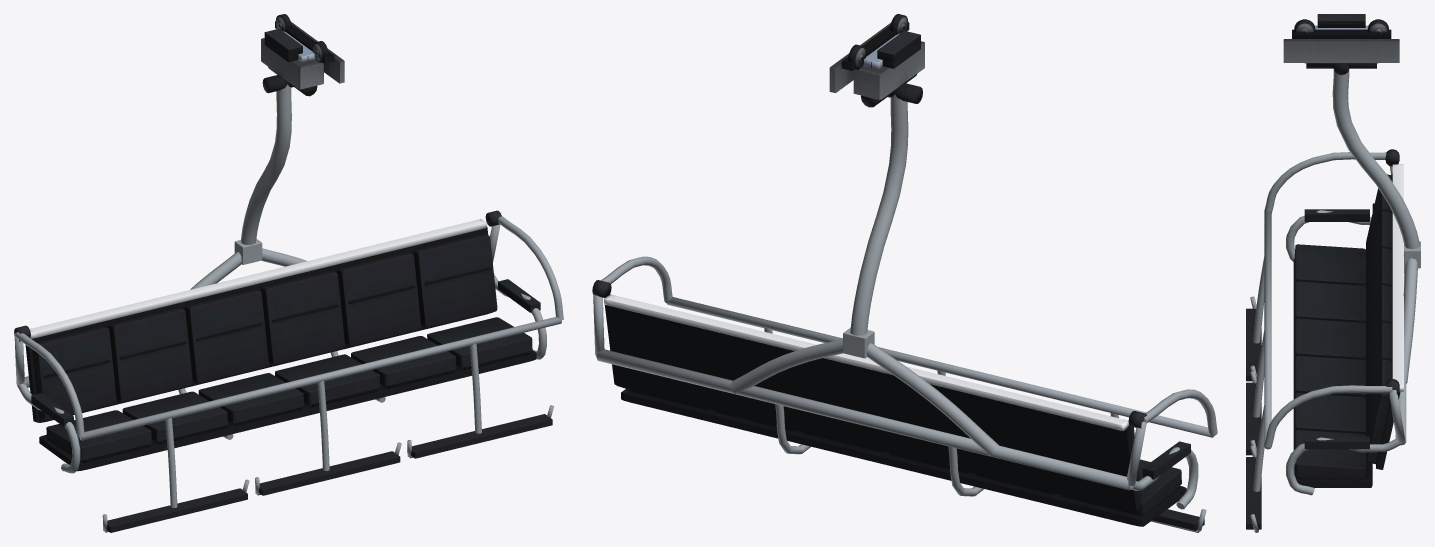
The model's file is chondola_chair.glb.
The picture shows the model from 3 angles, left to right: view 1: azimuth 30°, elevation 25°; view 2: azimuth 150°, elevation 25°; view 3: azimuth 270°, elevation 25°; orthographic projection. The views are drawn at different scales.
Parts seen in each view (by area): view 1: chondola_chair, chondola_chair_paint, chondola_chair_snow; view 2: chondola_chair, chondola_chair_paint, chondola_chair_snow; view 3: chondola_chair, chondola_chair_paint, chondola_chair_snow.
Boxes of the visible parts, bbox=[...] form: chondola_chair: bbox=[14, 14, 552, 532]; chondola_chair_paint: bbox=[14, 84, 563, 532]; chondola_chair_snow: bbox=[29, 31, 486, 338]; chondola_chair: bbox=[592, 14, 1204, 530]; chondola_chair_paint: bbox=[593, 94, 1217, 532]; chondola_chair_snow: bbox=[604, 33, 1129, 431]; chondola_chair: bbox=[1246, 14, 1400, 529]; chondola_chair_paint: bbox=[1250, 69, 1420, 532]; chondola_chair_snow: bbox=[1315, 25, 1403, 391].
Size of the model in its own units: 3.96 by 3.22 by 1.23.
Materials: 3 (1 with a texture image).
